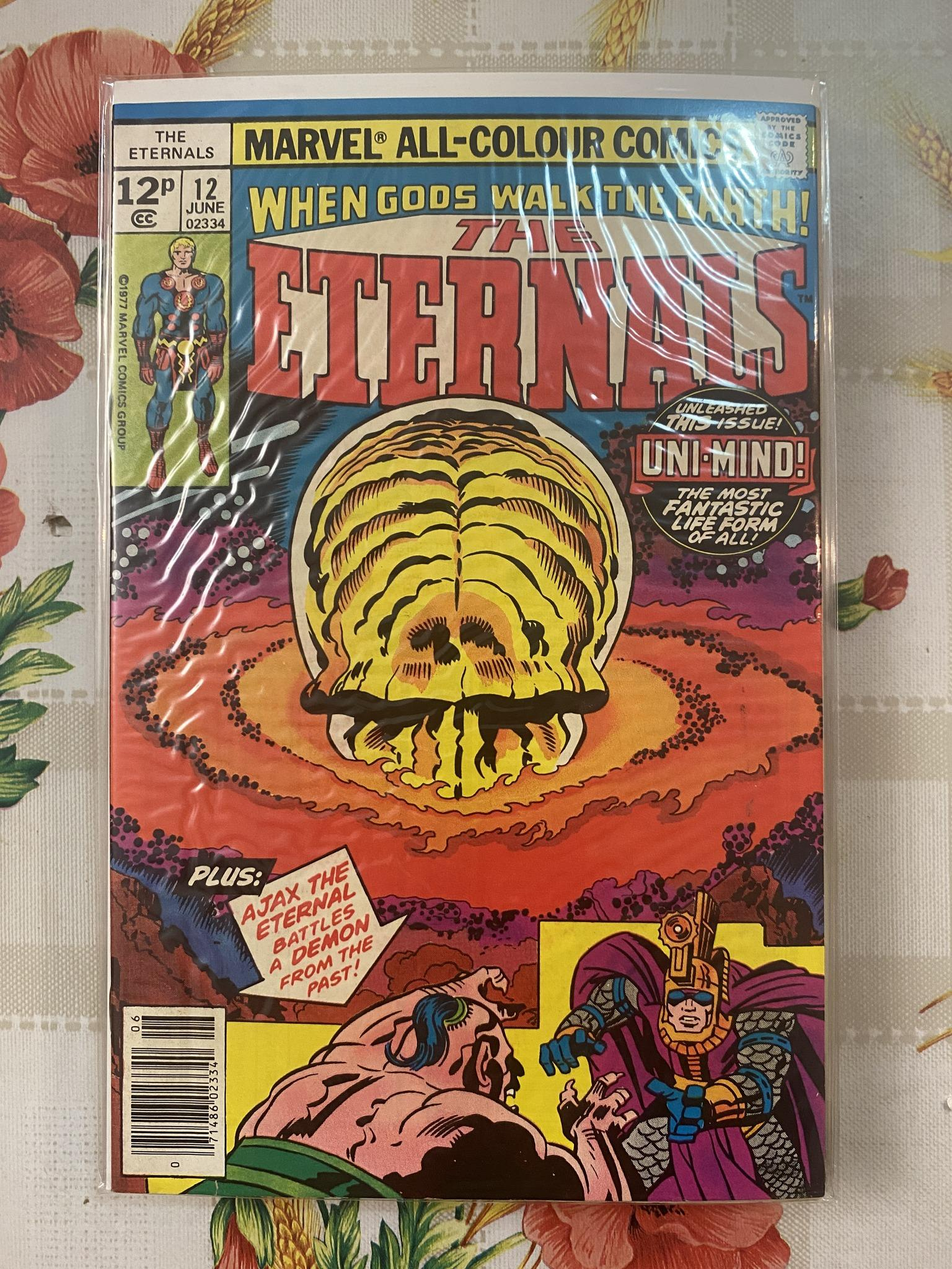comic: (103, 74, 825, 1201)
